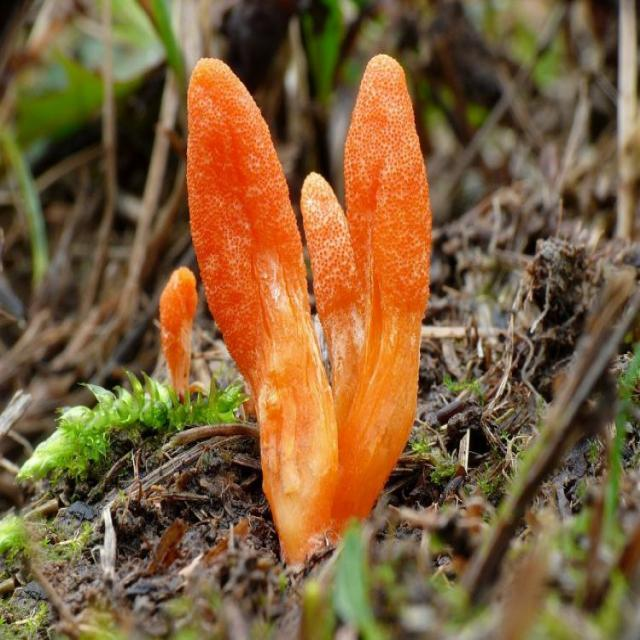Cordyceps militaris: (186, 55, 433, 537), (164, 268, 195, 389)
